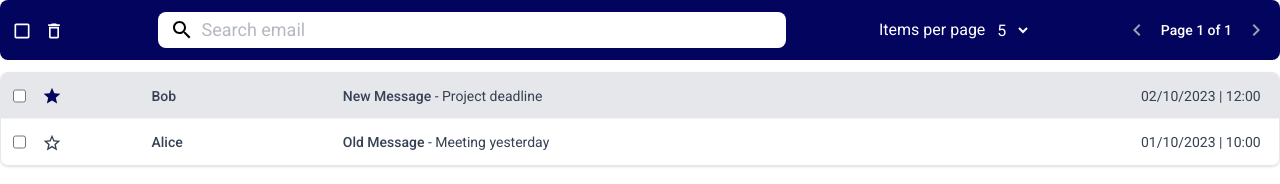
Test: MessageList Component › filters messages based on search input
Expected: the text "New Message" is shown, [343,88,431,104]
Type "deadline" into the field with placeholder "Search email" at (488, 30), box [202,16,774,44]
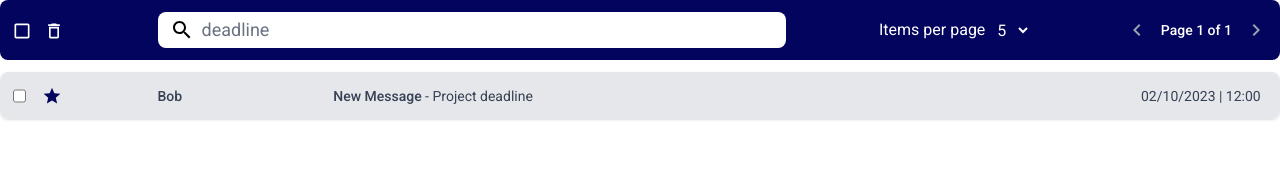
Expected: the text "New Message" is shown, [333,88,422,104]
Result: the text "Old Message" is gone
